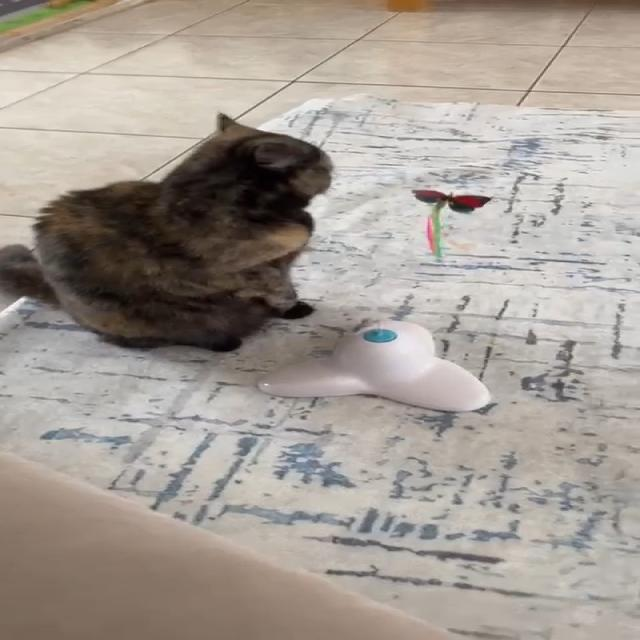authorized: (0, 110, 333, 352)
